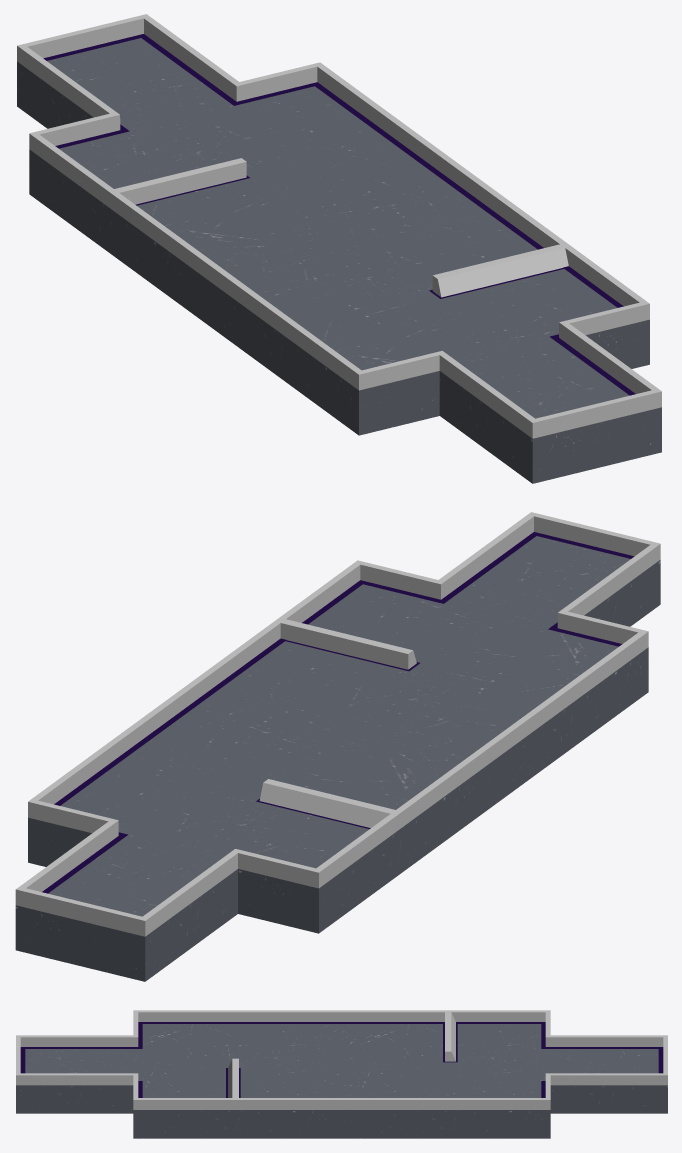
File: Duel_Stage 1.fbx
3 renders of one model, top to bottom at view 1: azimuth 30°, elevation 25°; view 2: azimuth 150°, elevation 25°; view 3: azimuth 270°, elevation 25°, orthographic. The views are drawn at different scales.
Parts seen in each view (by area): view 1: Platform_Cube (1), Platform_Cube (1).001, Platform_Cube (1).002, NY_Wall_Low_Tape.007, NY_Wall_Low_Tape.005; view 2: Platform_Cube (1), Platform_Cube (1).001, Platform_Cube (1).002, NY_Wall_Low_Tape.005, NY_Wall_Low_Tape.007; view 3: Platform_Cube (1), Platform_Cube (1).001, Platform_Cube (1).002, NY_Wall_Low_Tape.005, NY_Wall_Low_Tape.007.
Part boxes in pixels (x1,y1,x2,y2): Platform_Cube (1): (17, 38, 661, 483); Platform_Cube (1).001: (17, 14, 661, 438); Platform_Cube (1).002: (43, 34, 635, 395); NY_Wall_Low_Tape.007: (432, 244, 568, 297); NY_Wall_Low_Tape.005: (114, 158, 246, 204); Platform_Cube (1): (15, 536, 660, 981); Platform_Cube (1).001: (15, 512, 660, 936); Platform_Cube (1).002: (42, 532, 634, 893); NY_Wall_Low_Tape.005: (259, 779, 395, 827); NY_Wall_Low_Tape.007: (280, 619, 416, 669); Platform_Cube (1): (16, 1024, 667, 1138); Platform_Cube (1).001: (16, 1010, 667, 1109); Platform_Cube (1).002: (20, 1022, 663, 1097); NY_Wall_Low_Tape.005: (445, 1012, 455, 1061); NY_Wall_Low_Tape.007: (228, 1058, 238, 1098).
Size of the model in its own units: 3160 by 540 by 8311.
